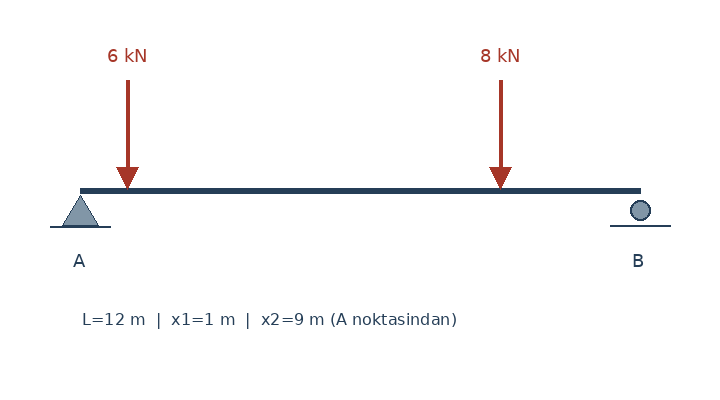pin_support: (61, 190, 99, 226)
point_load: (113, 76, 141, 190), (486, 76, 514, 190)
roller_support: (625, 196, 655, 227)
